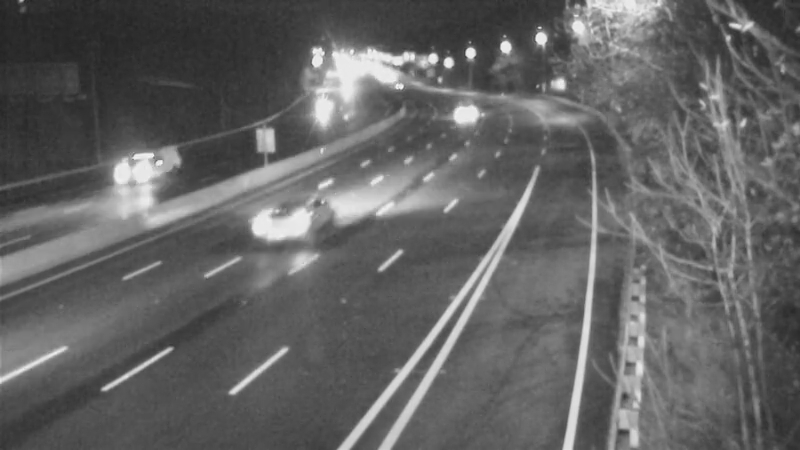vehicle: (241, 182, 321, 262), (81, 130, 161, 210), (441, 79, 491, 129), (295, 79, 345, 129)
